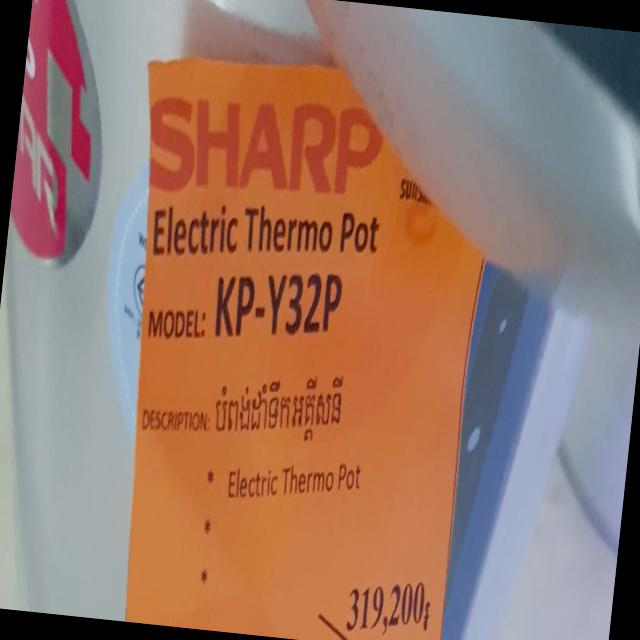Yolov11_80vkh: (213, 359, 346, 441)
